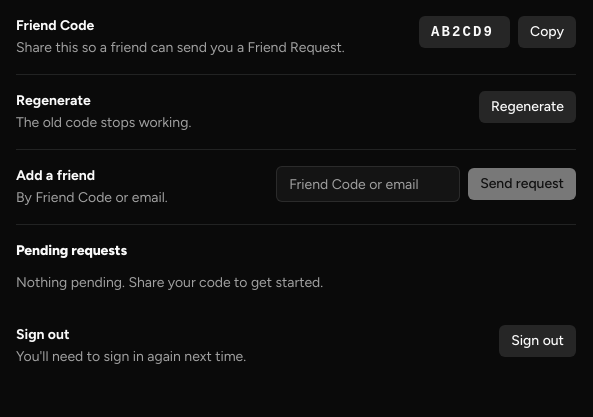
it: Settings › sends a Friend Request by code or email, adding it to Outgoing
Expected: the text "AB2CD9" is shown, left=419, top=16, right=510, bottom=48
Expected: the text "Nothing pending. Share your code to get started." is shown, left=16, top=274, right=323, bottom=291
Type "sam@example.test" into the field labelled "Friend Code or email".
click(368, 184); type("sam@example.test")  # box left=276, top=166, right=460, bottom=202
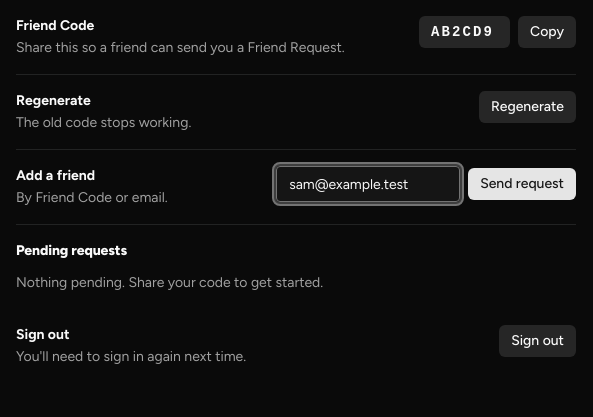
Click the button "Send request".
click(522, 184)  # box left=468, top=168, right=576, bottom=200
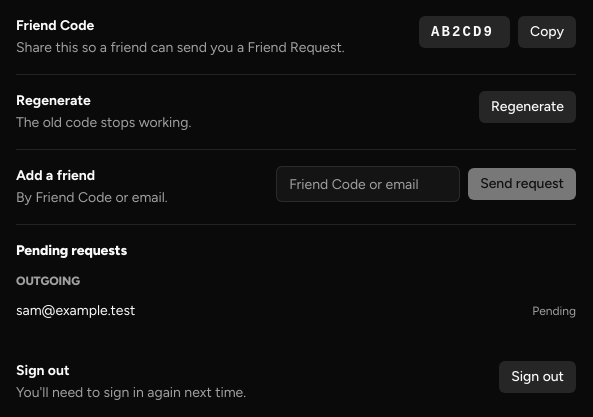
Expected: the text "Pending" is shown, left=532, top=303, right=576, bottom=319
Expected: the text "sam@example.test" is shown, left=16, top=302, right=135, bottom=319
